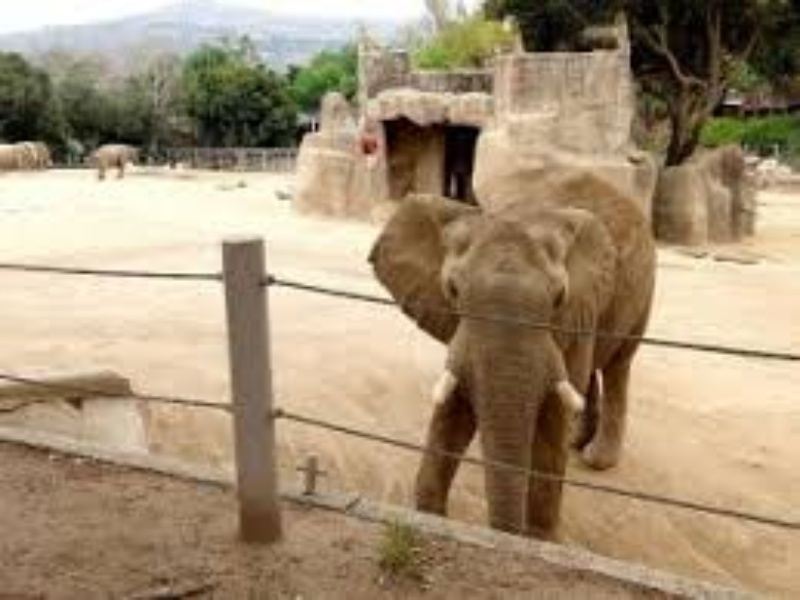elephant: (340, 149, 696, 553)
